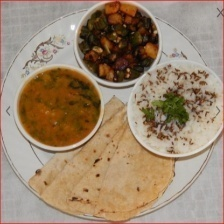roti: (19, 90, 179, 217)
